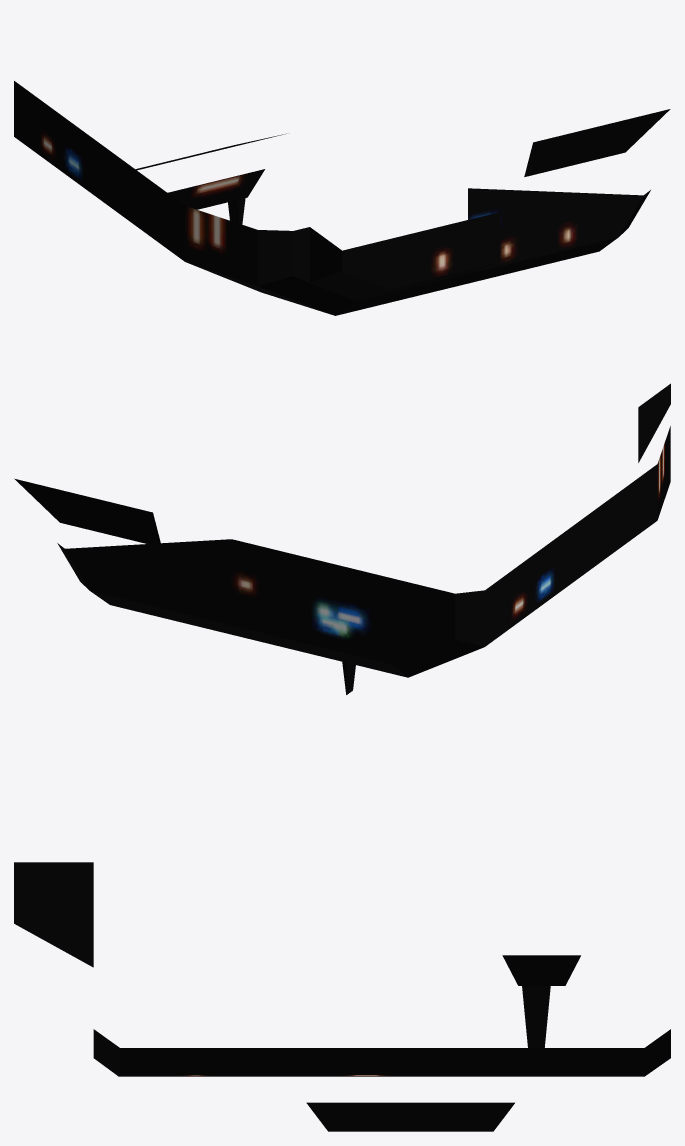
The model's file is hangar_hgn_battlecruiser_02_basic_t3_right.glb.
3 views of the same model, one above another, from view 1: azimuth 30°, elevation 25°; view 2: azimuth 150°, elevation 25°; view 3: azimuth 270°, elevation 25° (orthographic). The views are drawn at different scales.
Visible parts, largest first — view 1: hgn_flagship_battlecruiser_02_hangar_01_r; view 2: hgn_flagship_battlecruiser_02_hangar_01_r; view 3: hgn_flagship_battlecruiser_02_hangar_01_r.
Part boxes in pixels (left/top/right/bottom): hgn_flagship_battlecruiser_02_hangar_01_r: left=14, top=81, right=670, bottom=315; hgn_flagship_battlecruiser_02_hangar_01_r: left=14, top=383, right=670, bottom=694; hgn_flagship_battlecruiser_02_hangar_01_r: left=14, top=862, right=670, bottom=1131.
Size of the model in its own units: 1.11 by 0.3628 by 0.9898.
Materials: 1 (1 with a texture image).
